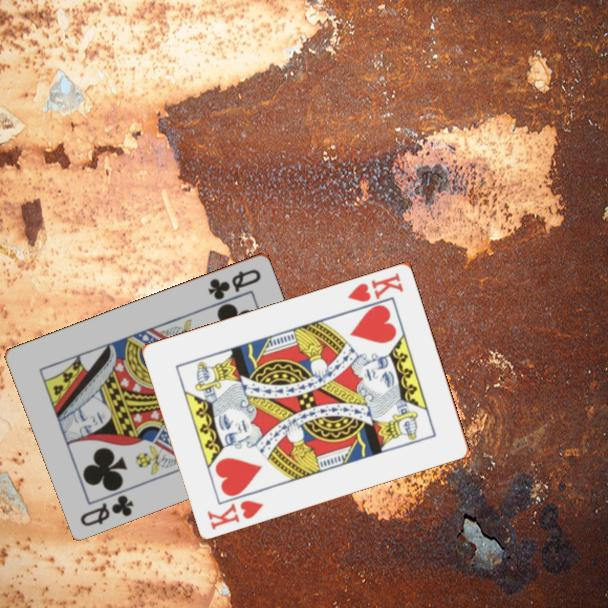c12: (77, 491, 137, 529), (205, 265, 264, 303)
h13: (204, 496, 266, 532), (344, 269, 406, 304)
